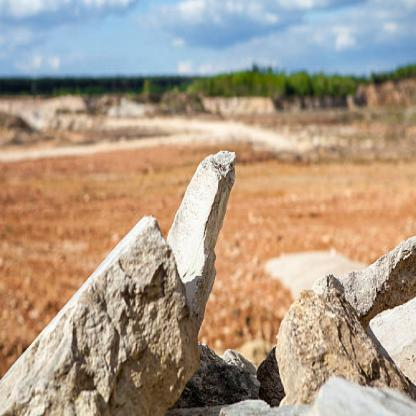Sedimentary_Limestone: (1, 209, 208, 415), (269, 268, 400, 415), (158, 146, 247, 341)
